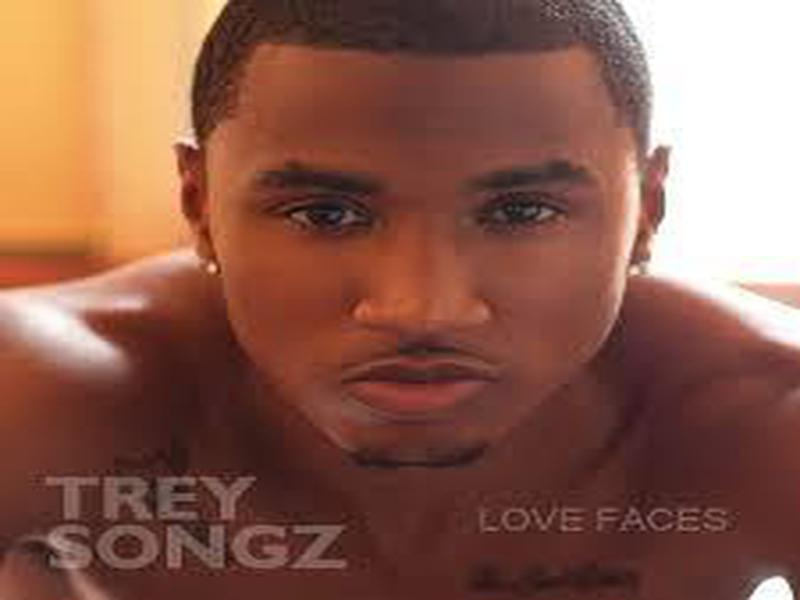without_mask: (210, 48, 619, 467)
